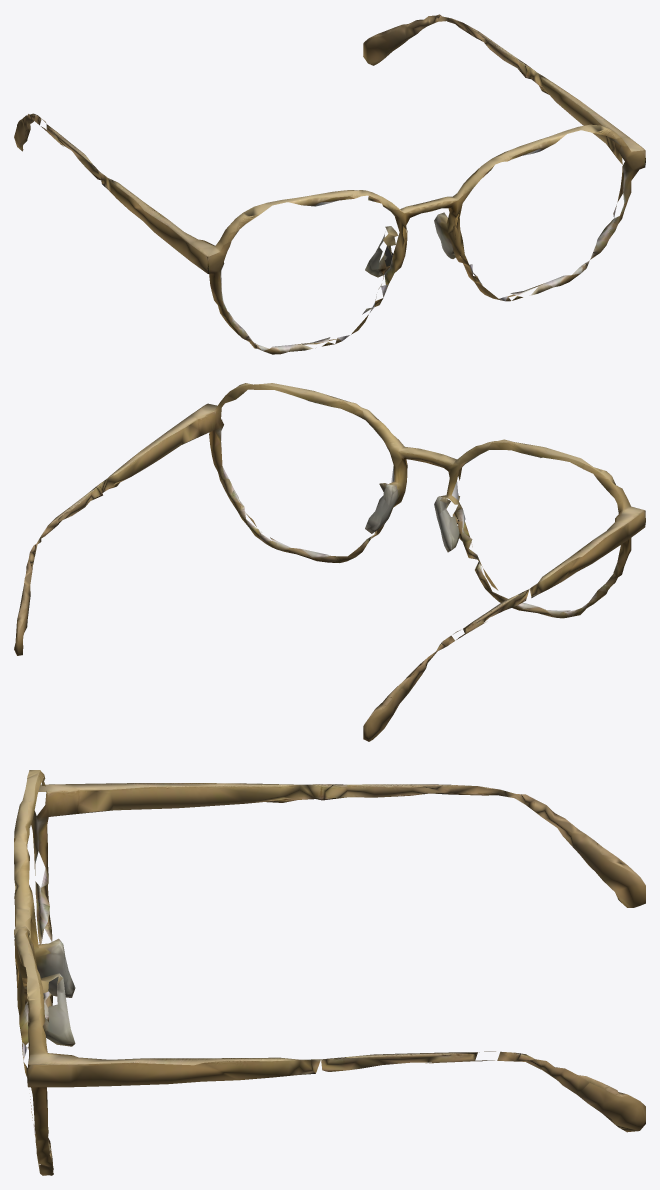
Rendered from head_accessory__0_031-.glb.
3 renders of one model, top to bottom at view 1: azimuth 30°, elevation 25°; view 2: azimuth 150°, elevation 25°; view 3: azimuth 270°, elevation 25°, orthographic. The views are drawn at different scales.
Visible parts, largest first — view 1: geometry_0_031; view 2: geometry_0_031; view 3: geometry_0_031.
Part boxes in pixels (x1,y1,x2,y2): geometry_0_031: [14, 14, 645, 354]; geometry_0_031: [14, 383, 645, 741]; geometry_0_031: [14, 770, 645, 1175].
Size of the model in its own units: 0.7642 by 0.2644 by 0.7273.
Materials: 1 (1 with a texture image).
